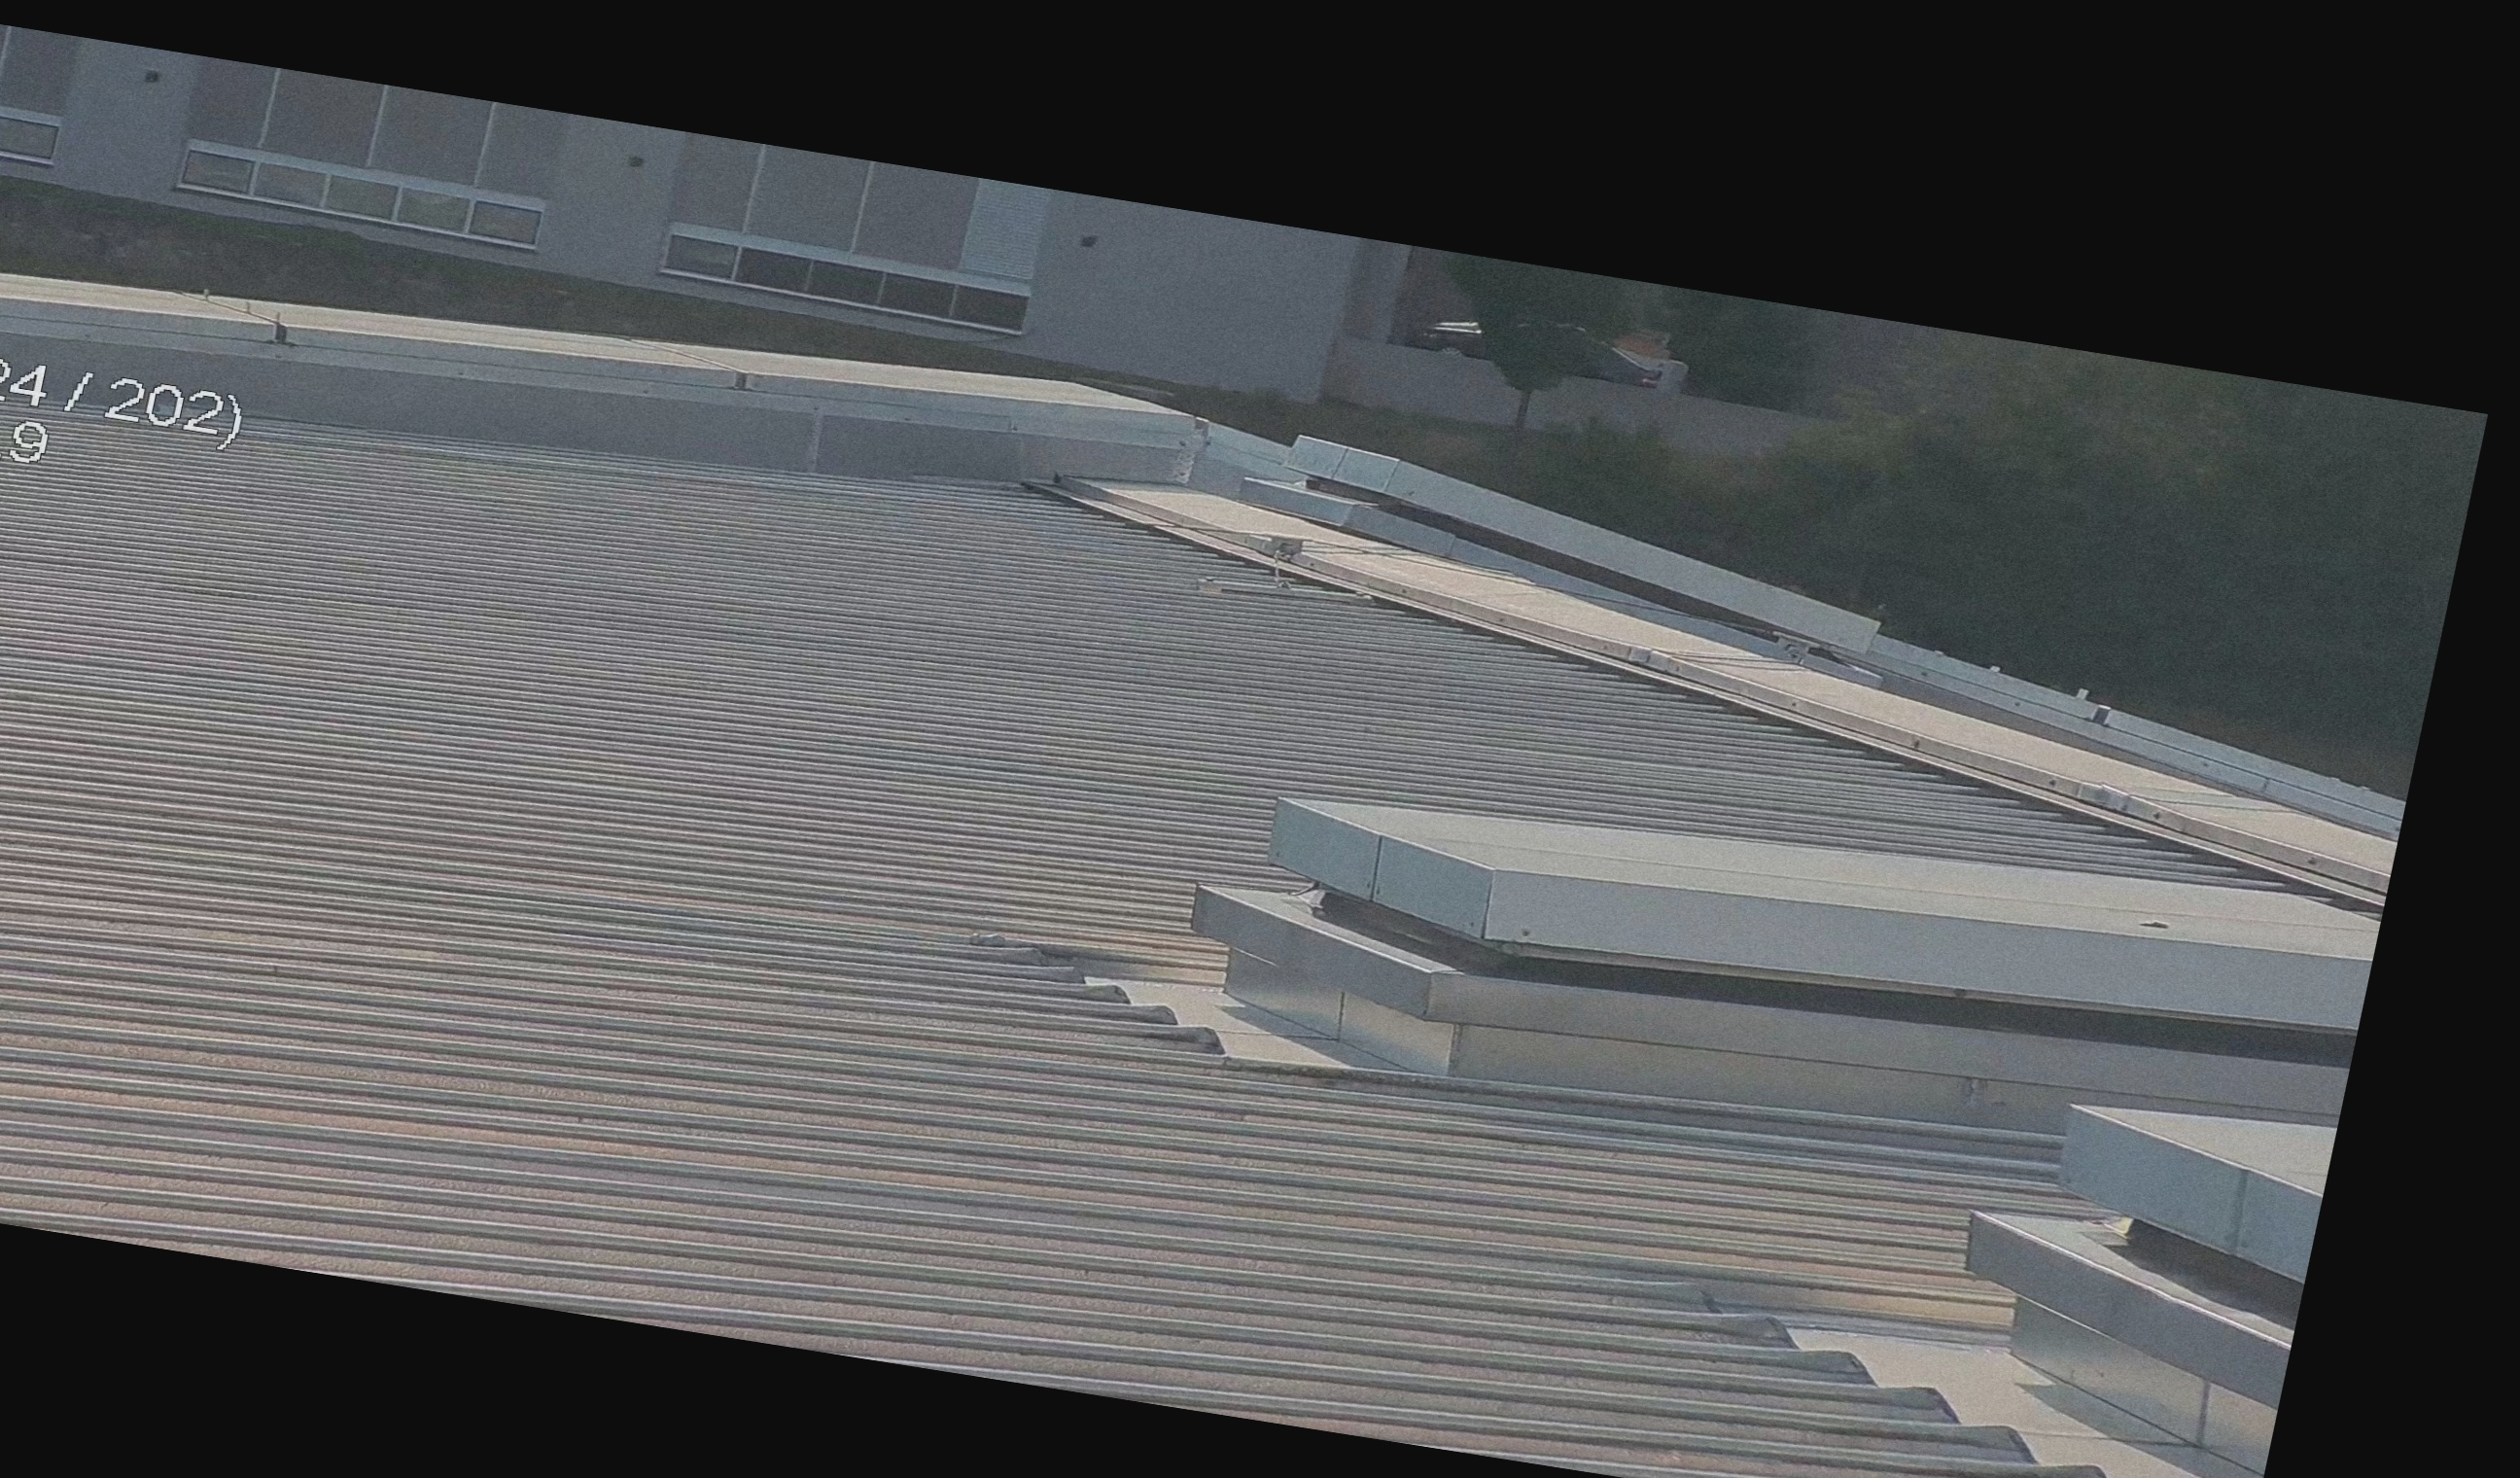Other: (1419, 282, 1713, 445)
